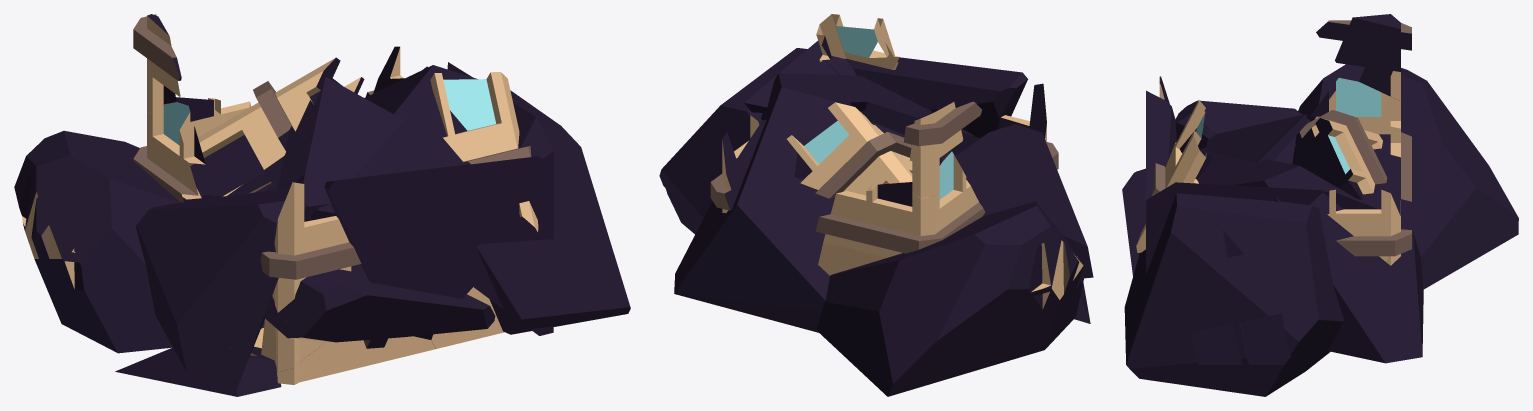
The model's file is Building4.fbx.
3 renders of one model, left to right at view 1: azimuth 30°, elevation 25°; view 2: azimuth 150°, elevation 25°; view 3: azimuth 270°, elevation 25°, orthographic. The views are drawn at different scales.
Visible parts, largest first — view 1: Small Destroy; view 2: Small Destroy; view 3: Small Destroy.
Part boxes in pixels (x1=…): Small Destroy: x1=14, y1=14, x2=630, y2=396; Small Destroy: x1=659, y1=14, x2=1093, y2=396; Small Destroy: x1=1122, y1=14, x2=1518, y2=396.
Bounding box in the file's own units: 958 × 490 × 757.
